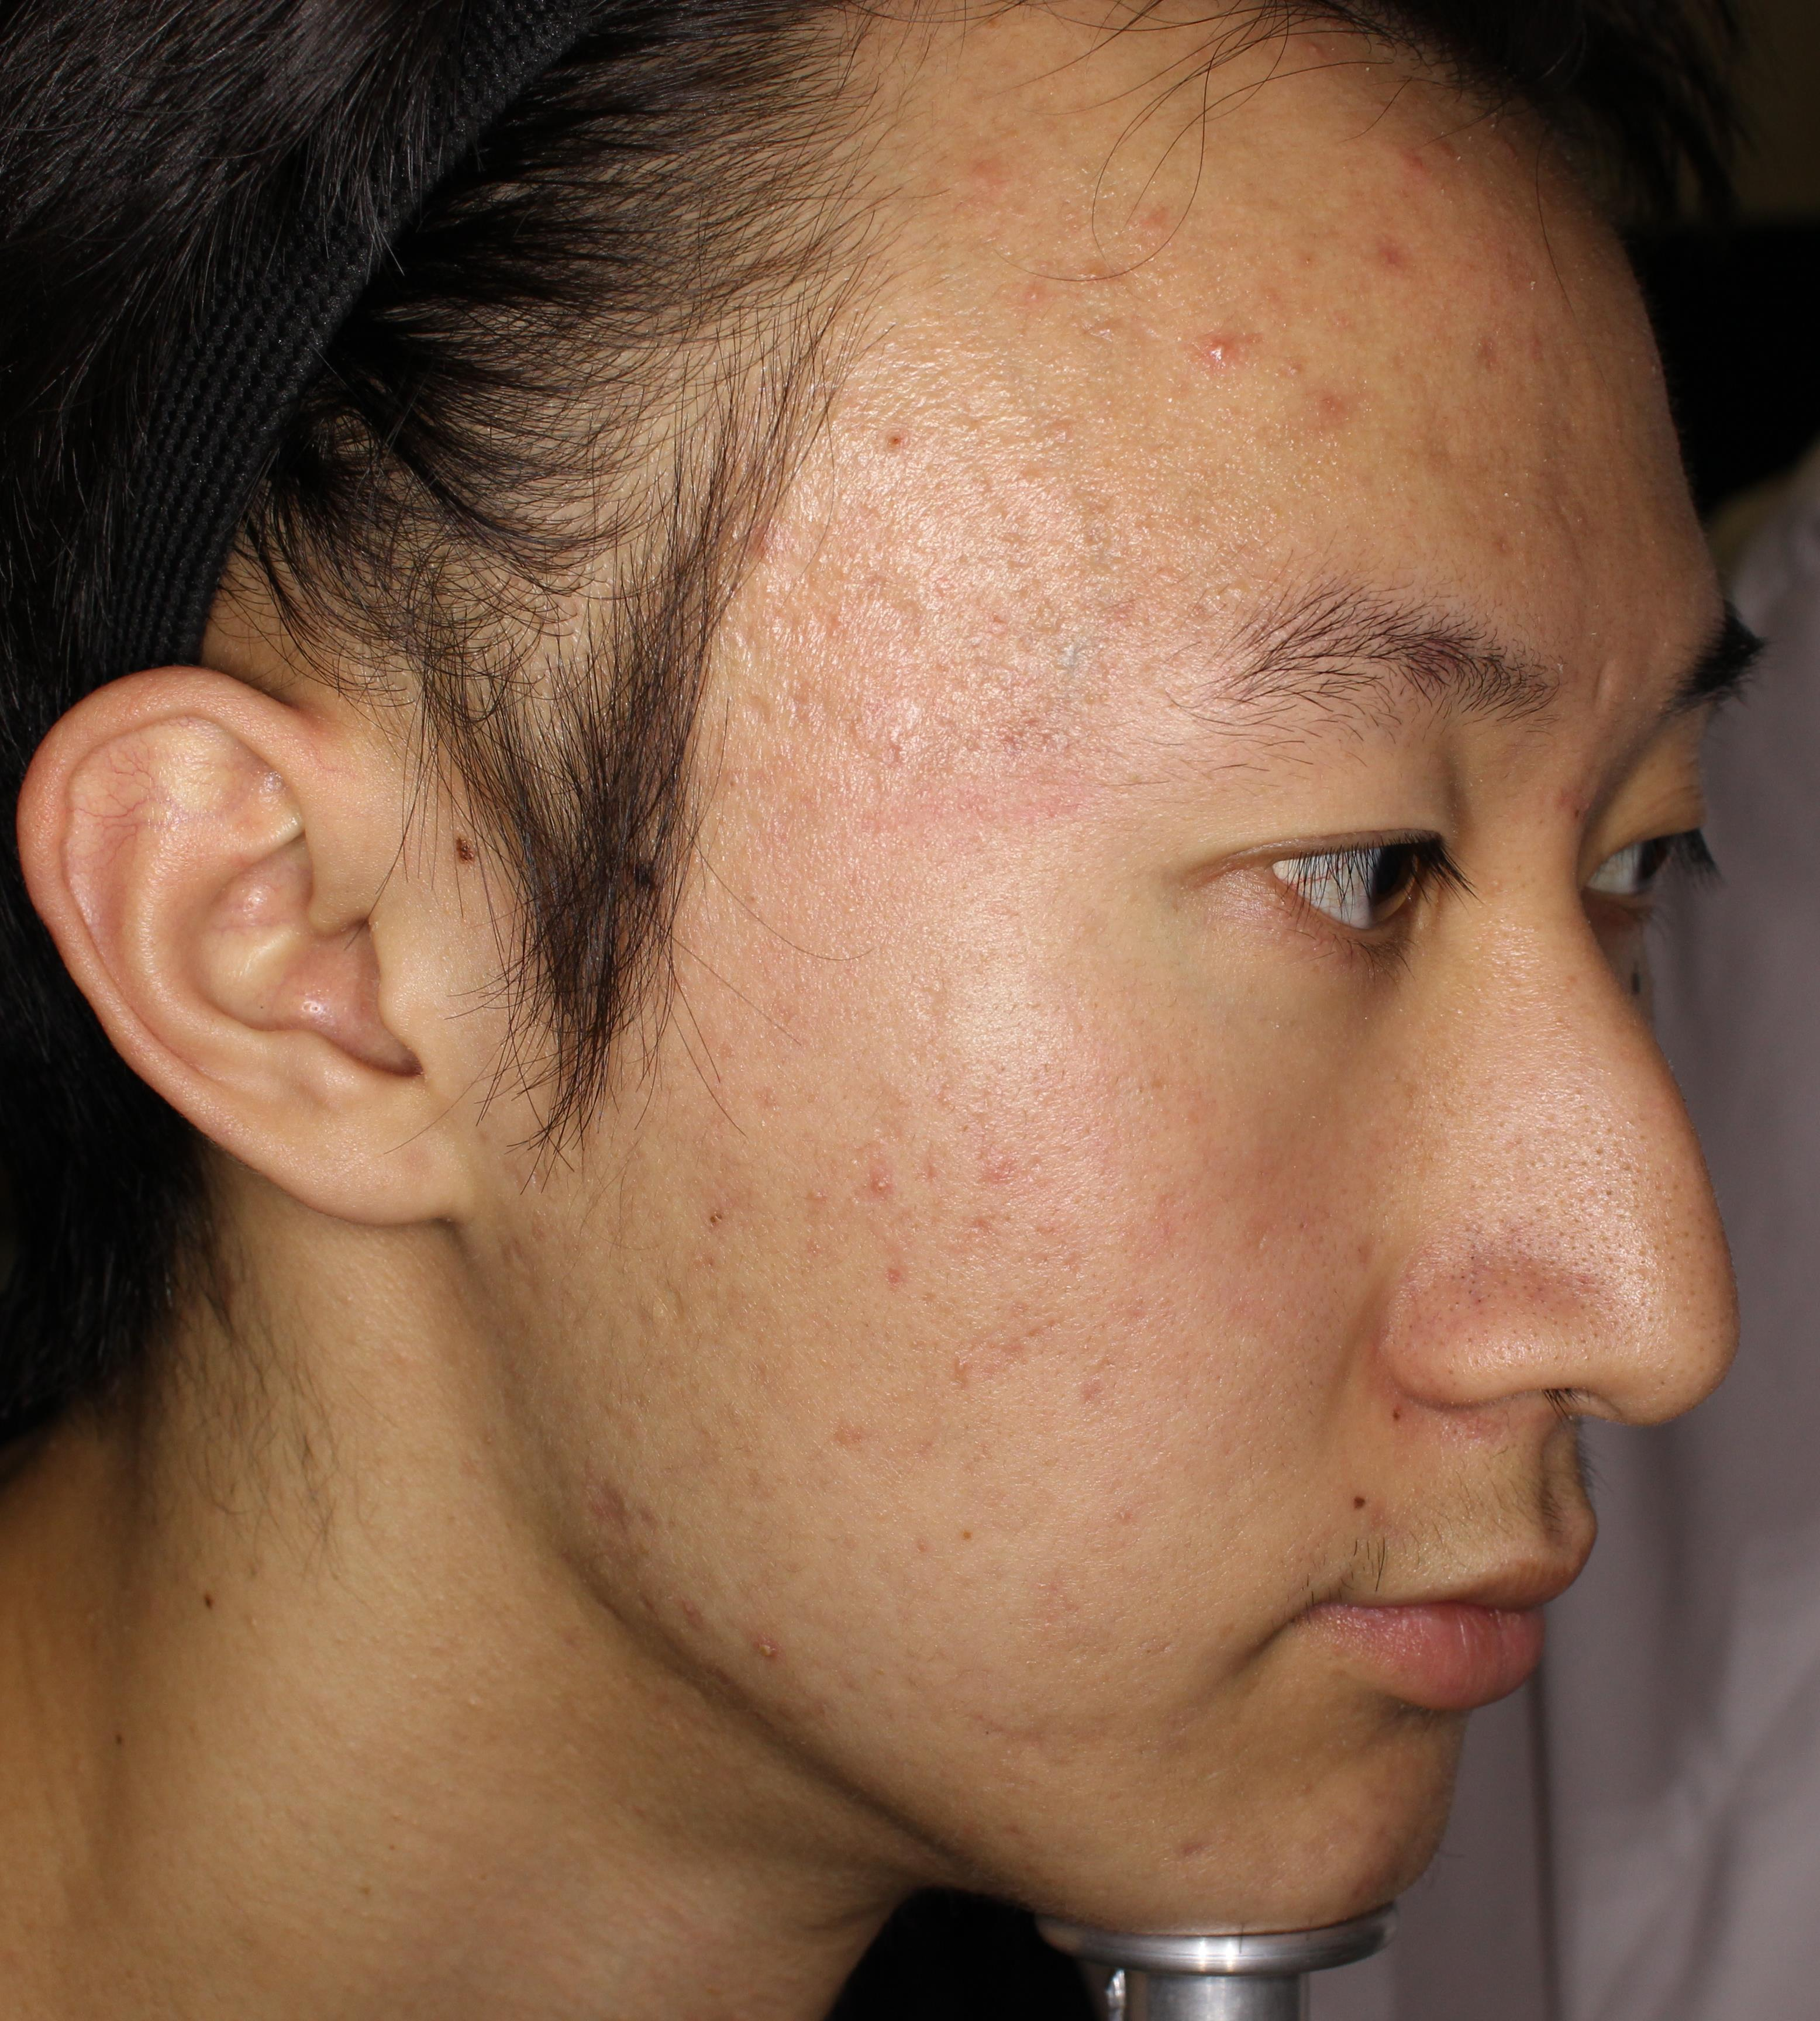fore: (1332, 223, 1458, 313), (1051, 241, 1152, 330), (1346, 119, 1441, 214), (1282, 370, 1369, 451), (727, 1621, 808, 1701), (964, 97, 1005, 200), (1179, 295, 1228, 365)
